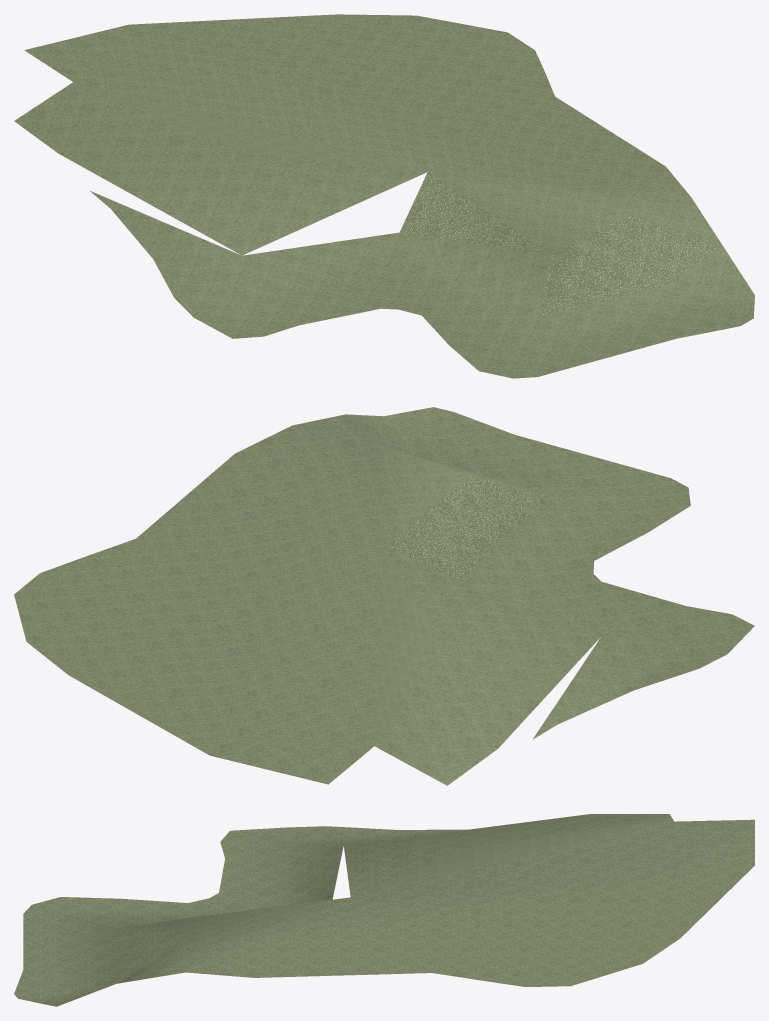
File: kd_stage_135ded_4_123_bounded_piece_1.glb
The picture shows the model from 3 angles, top to bottom: view 1: azimuth 30°, elevation 25°; view 2: azimuth 150°, elevation 25°; view 3: azimuth 270°, elevation 25°; orthographic projection. The views are drawn at different scales.
Parts seen in each view (by area): view 1: kd_stage_135ded_4_123_bounded_piece_1; view 2: kd_stage_135ded_4_123_bounded_piece_1; view 3: kd_stage_135ded_4_123_bounded_piece_1.
Part boxes in pixels (left/top/right/bottom): kd_stage_135ded_4_123_bounded_piece_1: left=14, top=14, right=754, bottom=378; kd_stage_135ded_4_123_bounded_piece_1: left=14, top=407, right=754, bottom=785; kd_stage_135ded_4_123_bounded_piece_1: left=14, top=814, right=754, bottom=1006.
Size of the model in its own units: 4.35 by 0.4681 by 6.56.
1 material, 1 textured.
